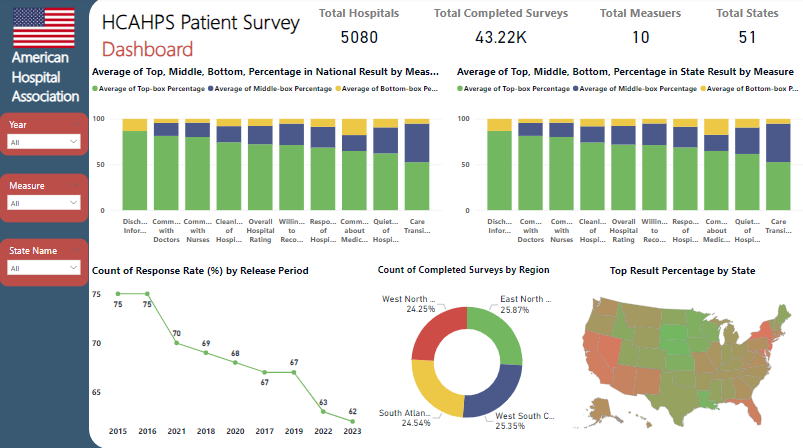

The page's visual inventory and layout, read from the dashboard file:
{"tool":"powerbi","page":{"name":"Page 1","canvas":[1500,840],"ordinal":0},"visuals":[{"type":"columnChart","title":"Average of Top, Middle, Bottom, Percentage in State Result by Measure","fields":{"Category":["measures1.Measure"],"Y":["Avg(state_results6.Top-box Percentage)","Avg(state_results6.Middle-box Percentage)","Avg(state_results6.Bottom-box Percentage)"]},"box":[845.6,124.5,654.2,341.9],"z":0},{"type":"shapeMap","title":"Top Result Percentage by State ","fields":{"Category":["states7.State Name"],"Value":["Avg(state_results6.Top-box Percentage)"]},"box":[1040.7,494.3,459,345.7],"z":1000},{"type":"card","title":"Total Completed Surveys","fields":{"Values":["CountNonNull(responses5.Completed Surveys)"]},"box":[801,14.9,263.9,85.5],"z":2000},{"type":"card","title":"Total Measuers","fields":{"Values":["CountNonNull(measures1.Measure)"]},"box":[1083.5,14.9,217.4,85.5],"z":3000},{"type":"textbox","box":[0,0,219.3,840],"z":4000},{"type":"donutChart","fields":{"Category":["states7.Region"],"Y":["CountNonNull(responses5.Completed Surveys)"]},"box":[698.8,494.3,341.9,345.7],"z":5000},{"type":"card","title":"Total States","fields":{"Values":["Count(states7.State Name)"]},"box":[1282.3,14.9,217.4,85.5],"z":6000},{"type":"slicer","fields":{"Values":["responses5.Release Period"]},"box":[0,213.7,167.3,81.8],"z":7000},{"type":"slicer","fields":{"Values":["states7.State Name"]},"box":[0,447.9,167.3,91.1],"z":8000},{"type":"slicer","fields":{"Values":["measures1.Measure"]},"box":[0,327.1,167.3,92.9],"z":9000},{"type":"shape","box":[167.3,0,143.1,840],"z":10000},{"type":"lineChart","fields":{"Category":["responses5.Release Period"],"Y":["Count(responses5.Response Rate (%))"]},"box":[167.3,494.3,516.6,332.7],"z":11000},{"type":"card","title":"Total Hospitals","fields":{"Values":["Count(responses5.Facility ID)"]},"box":[557.5,14.9,223,85.5],"z":12000},{"type":"columnChart","title":"Average of Top, Middle, Bottom, Percentage in National Result by Measure","fields":{"Category":["measures1.Measure"],"Y":["Avg(national_results2.Top-box Percentage)","Avg(national_results2.Middle-box Percentage)","Avg(national_results2.Bottom-box Percentage)"]},"box":[167.3,124.5,661.6,341.9],"z":13000},{"type":"image","box":[0,15.4,167.3,84.6],"z":14000},{"type":"textbox","box":[186.5,15.4,409.6,109.6],"z":15000},{"type":"textbox","box":[19.2,86.5,148.1,126.9],"z":16000}]}

Visuals, with their boxes in screenshot pixels (x1, y1, x2, y2), scaled from the page's 1500x840 canvas onto the 803x448 screenshot:
"Average of Top, Middle, Bottom, Percentage in State Result by Measure" columnChart: 453,66,802,249
"Top Result Percentage by State " shapeMap: 557,264,802,447
"Total Completed Surveys" card: 429,8,570,54
"Total Measuers" card: 580,8,696,54
textbox: 0,0,117,447
donutChart - states7.Region x CountNonNull(responses5.Completed Surveys): 374,264,557,447
"Total States" card: 686,8,802,54
slicer - responses5.Release Period: 0,114,90,158
slicer - states7.State Name: 0,239,90,287
slicer - measures1.Measure: 0,174,90,224
shape: 90,0,166,447
lineChart - responses5.Release Period x Count(responses5.Response Rate (%)): 90,264,366,441
"Total Hospitals" card: 298,8,418,54
"Average of Top, Middle, Bottom, Percentage in National Result by Measure" columnChart: 90,66,444,249
image: 0,8,90,53
textbox: 100,8,319,67
textbox: 10,46,90,114
